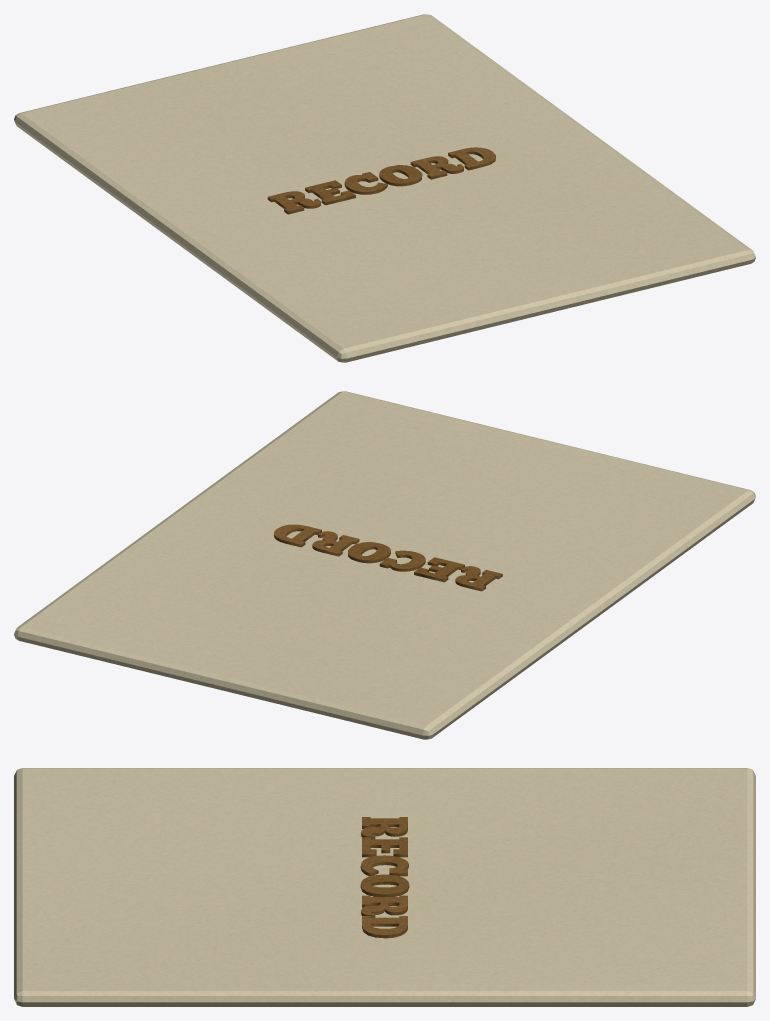
The model's file is record-impression.glb.
3 views of the same model, one above another, from view 1: azimuth 30°, elevation 25°; view 2: azimuth 150°, elevation 25°; view 3: azimuth 270°, elevation 25° (orthographic). The views are drawn at different scales.
Visible parts, largest first — view 1: Record impression paper, Record impression controlled title; view 2: Record impression paper, Record impression controlled title; view 3: Record impression paper, Record impression controlled title.
Part boxes in pixels (x1=…): Record impression paper: x1=14, y1=14, x2=755, y2=362; Record impression controlled title: x1=267, y1=147, x2=495, y2=214; Record impression paper: x1=14, y1=391, x2=755, y2=739; Record impression controlled title: x1=274, y1=524, x2=502, y2=591; Record impression paper: x1=14, y1=768, x2=755, y2=1006; Record impression controlled title: x1=360, y1=817, x2=409, y2=938.
Size of the model in its own units: 0.22 by 0.0087 by 0.3.
2 materials, 2 textured.
